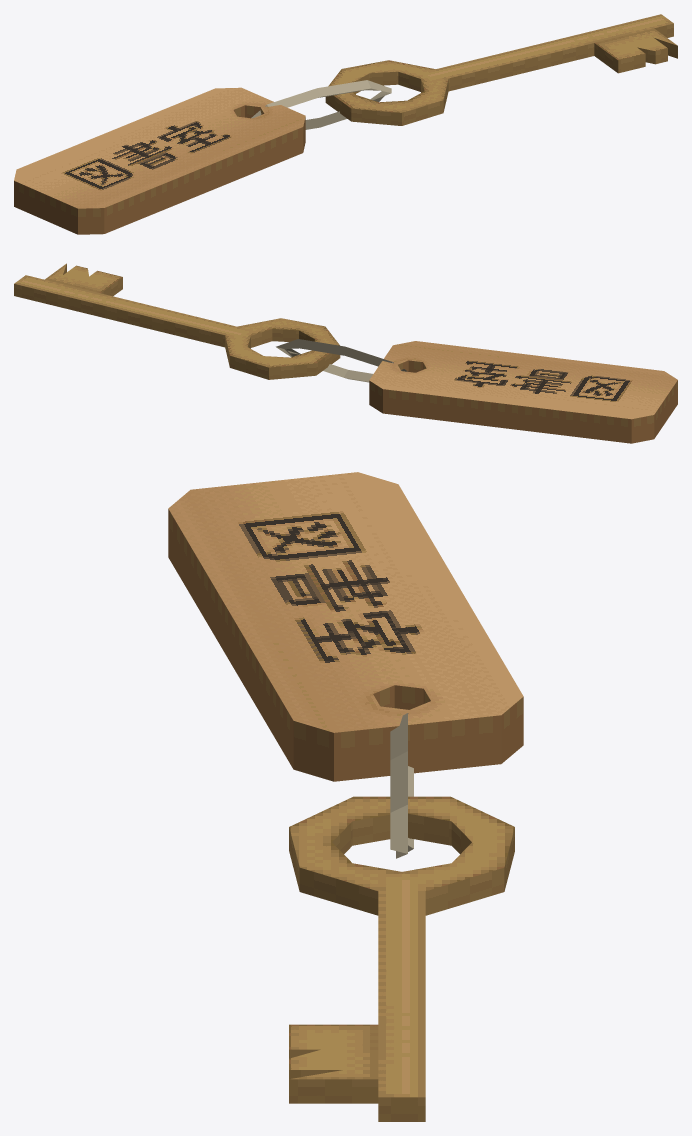
Rendered from prop_item_library_key.glb.
3 views of the same model, one above another, from view 1: azimuth 30°, elevation 25°; view 2: azimuth 150°, elevation 25°; view 3: azimuth 270°, elevation 25° (orthographic). The views are drawn at different scales.
Parts seen in each view (by area): view 1: prop_item_library_key; view 2: prop_item_library_key; view 3: prop_item_library_key.
Boxes of the visible parts, x1,y1,x2,y2 form: prop_item_library_key: (14,14,677,234); prop_item_library_key: (14,263,677,443); prop_item_library_key: (168,472,523,1121).
Bounding box in the file's own units: 0.1335 × 0.00711 × 0.033.
Materials: 1 (1 with a texture image).
